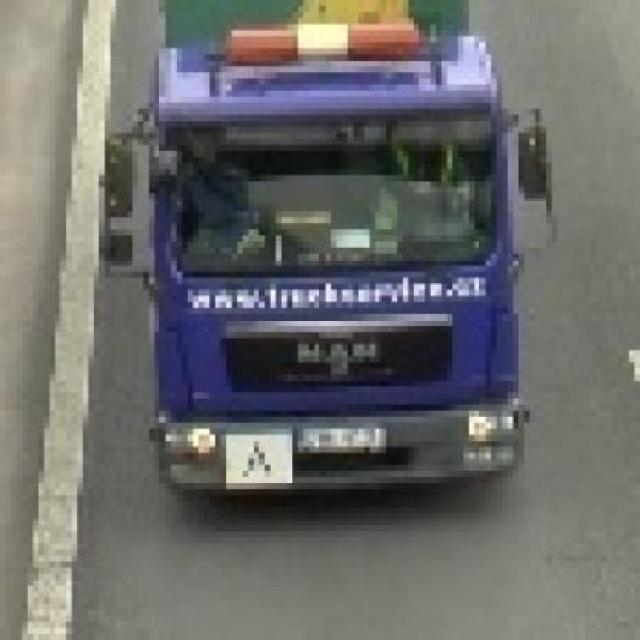truck: (106, 1, 558, 509)
